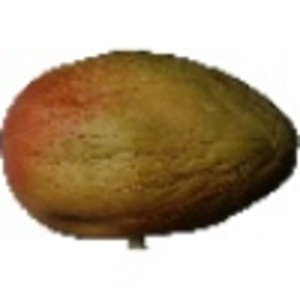mamão: (3, 44, 296, 241)
